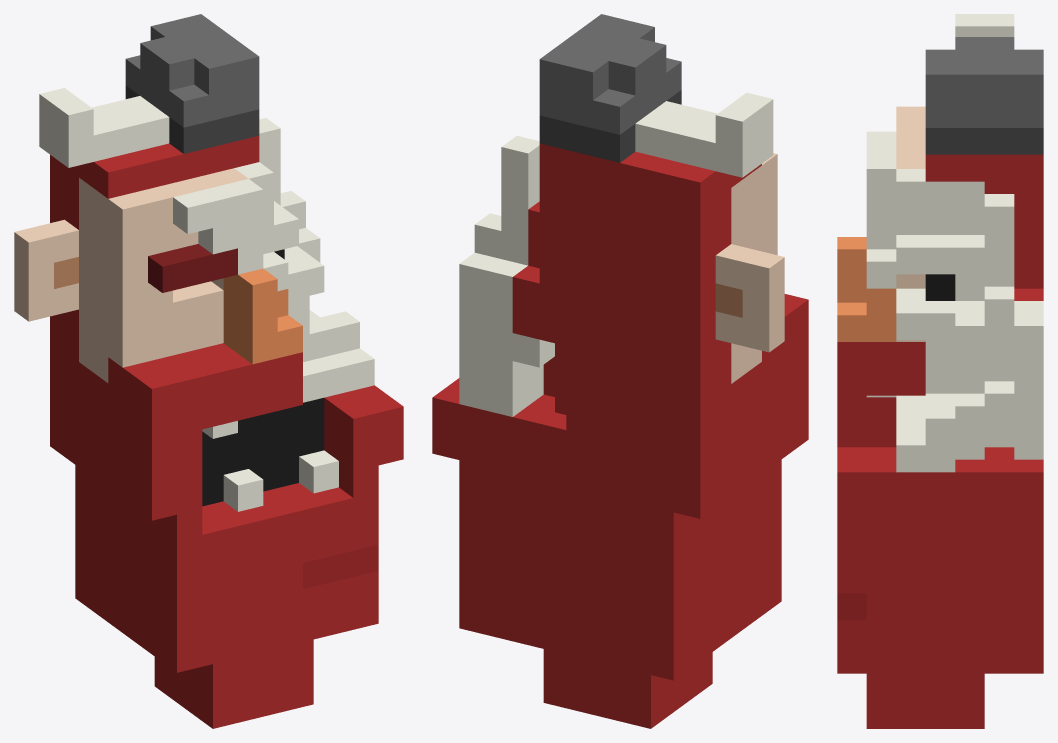
Rendered from enemy_001-2.obj.
3 renders of one model, left to right at view 1: azimuth 30°, elevation 25°; view 2: azimuth 150°, elevation 25°; view 3: azimuth 270°, elevation 25°, orthographic. The views are drawn at different scales.
Bounding box in the file's own units: 1.2 × 2.4 × 0.7.
1 material, 1 textured.
